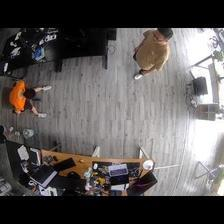normal: (132, 28, 175, 80), (9, 80, 52, 119)
